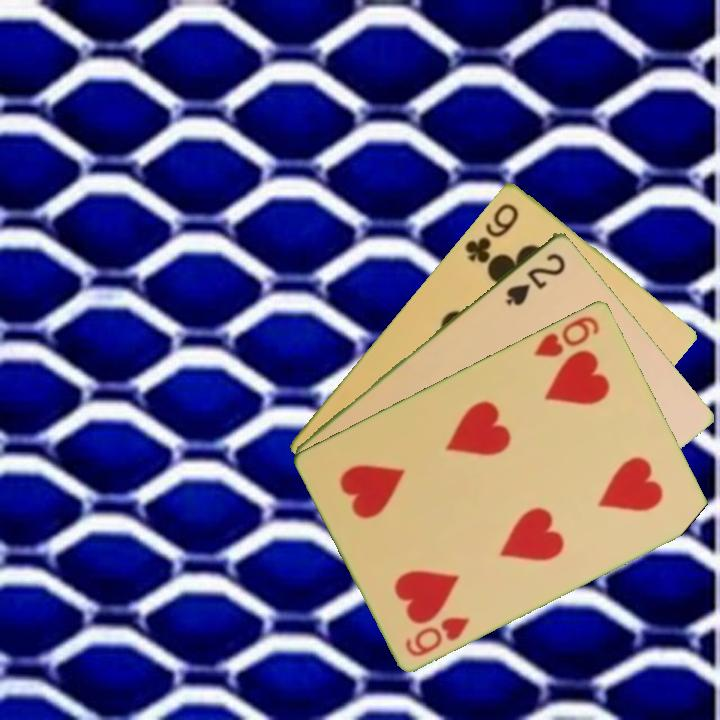2s: (502, 248, 569, 309)
6h: (530, 312, 603, 360), (401, 612, 473, 659)
9c: (461, 199, 522, 266)
